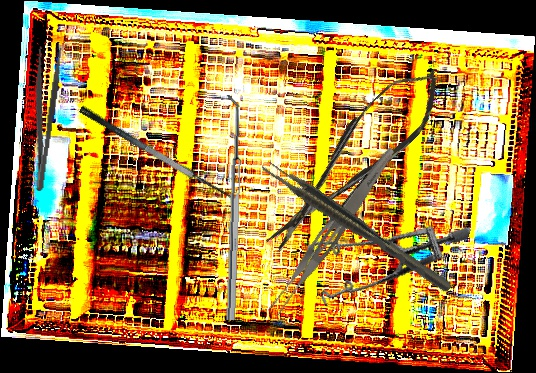Dressing Forceps: (264, 141, 399, 321), (21, 45, 64, 192)
Micro Scissor: (246, 55, 459, 264)
Spatula Surgical: (78, 92, 244, 208), (218, 94, 243, 321)
Speculum: (292, 180, 472, 342)
Tissue Forceps: (259, 155, 453, 299)
